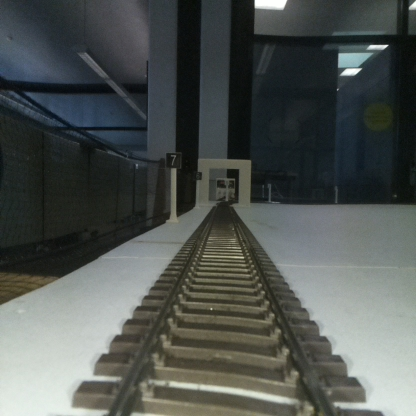black-info-6: (194, 171, 201, 210)
black-info-7: (167, 153, 180, 221)
